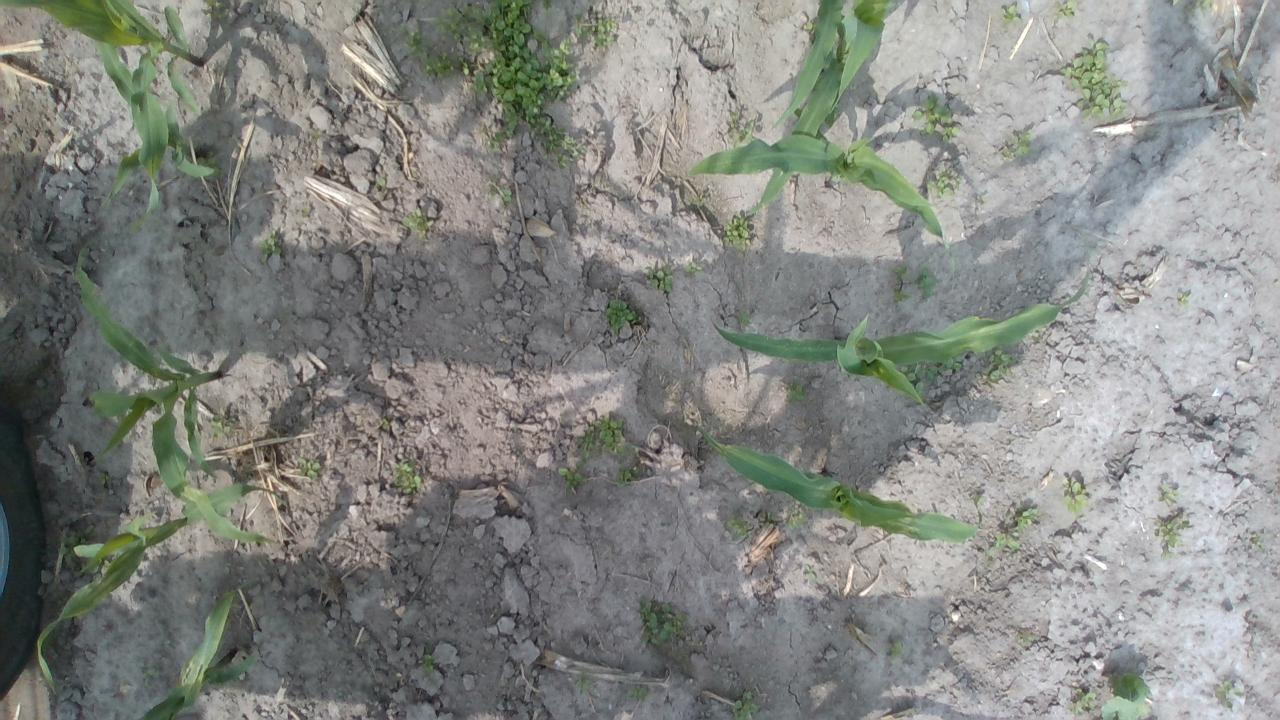Maize: (74, 243, 274, 546), (38, 486, 294, 700), (711, 275, 1094, 413), (1, 0, 207, 215), (688, 138, 958, 274), (702, 429, 977, 545), (758, 0, 894, 205), (102, 41, 217, 207), (136, 591, 255, 720), (771, 0, 846, 128)
Weeds: (430, 0, 582, 128), (1058, 42, 1128, 123), (398, 24, 458, 82), (579, 413, 639, 459), (638, 596, 686, 650), (532, 124, 585, 170), (911, 96, 961, 144), (1102, 674, 1152, 720), (571, 8, 621, 48), (723, 203, 761, 249), (1158, 516, 1192, 561), (982, 348, 1018, 390), (61, 527, 93, 570), (604, 298, 638, 334), (897, 360, 927, 398), (558, 460, 588, 496), (926, 169, 962, 198), (402, 208, 434, 240), (998, 131, 1033, 160), (1064, 480, 1092, 514), (732, 689, 762, 720), (203, 0, 230, 34), (988, 533, 1023, 559), (394, 461, 421, 494), (912, 264, 938, 298), (642, 264, 673, 292), (1066, 688, 1097, 716), (256, 230, 282, 263), (1216, 678, 1244, 708), (928, 359, 962, 383), (481, 129, 513, 152), (207, 415, 239, 437), (730, 119, 754, 146), (296, 455, 320, 479), (614, 464, 640, 486), (1013, 508, 1038, 530), (575, 673, 596, 698), (788, 505, 808, 530), (726, 519, 752, 537), (417, 653, 439, 674), (1001, 4, 1024, 24), (87, 558, 110, 577), (1161, 485, 1180, 506), (1056, 0, 1078, 18), (624, 685, 647, 702), (890, 265, 914, 281), (495, 186, 513, 206), (786, 382, 804, 401), (826, 104, 840, 128), (128, 216, 146, 234), (888, 640, 904, 660), (736, 309, 754, 325), (894, 290, 914, 304), (684, 262, 704, 274), (727, 110, 740, 128), (1178, 292, 1192, 308), (802, 20, 816, 34), (1252, 533, 1264, 549), (976, 194, 990, 207), (803, 564, 816, 578), (1016, 634, 1034, 642), (98, 472, 109, 485), (376, 174, 386, 188), (1200, 0, 1212, 9), (974, 496, 984, 505)
